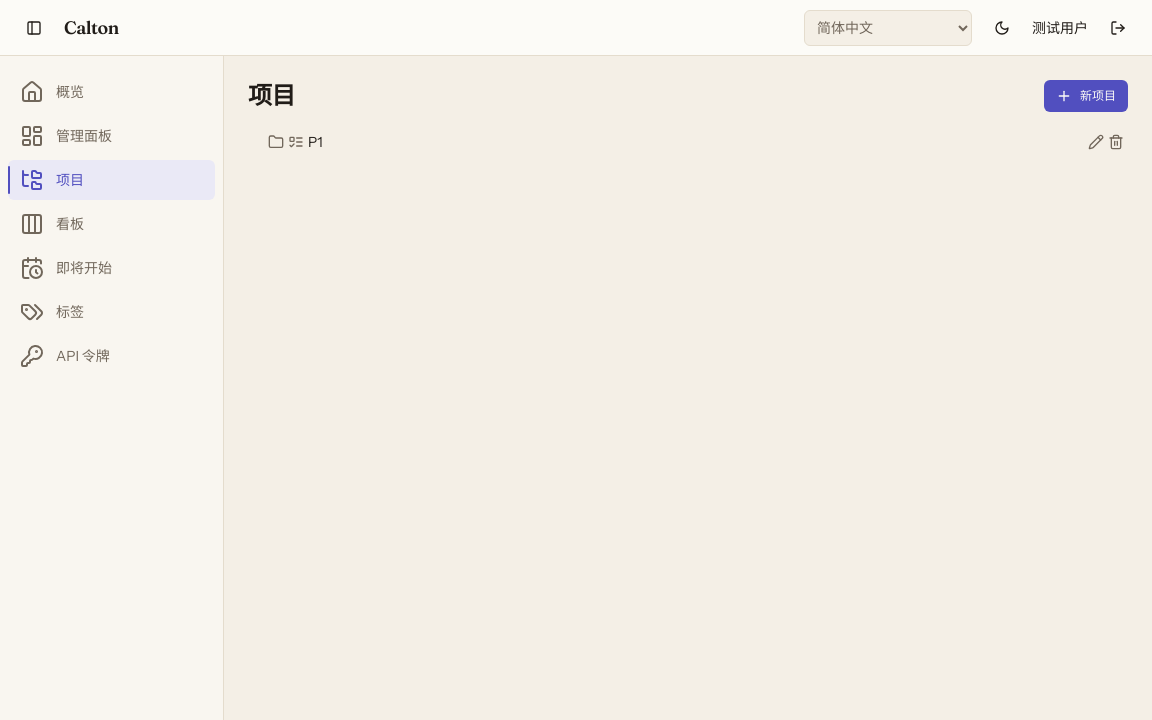
Test: 项目页 · 展开任务/子任务 › 点开任务后懒加载出该项目的任务，父任务下嵌套子任务
The image size is (1152, 720).
Expected: the list "P1" is shown, [248,128,1128,156]
Click the button with test id "project-tasks-toggle-1" at [296, 142], box [288,134,304,150]
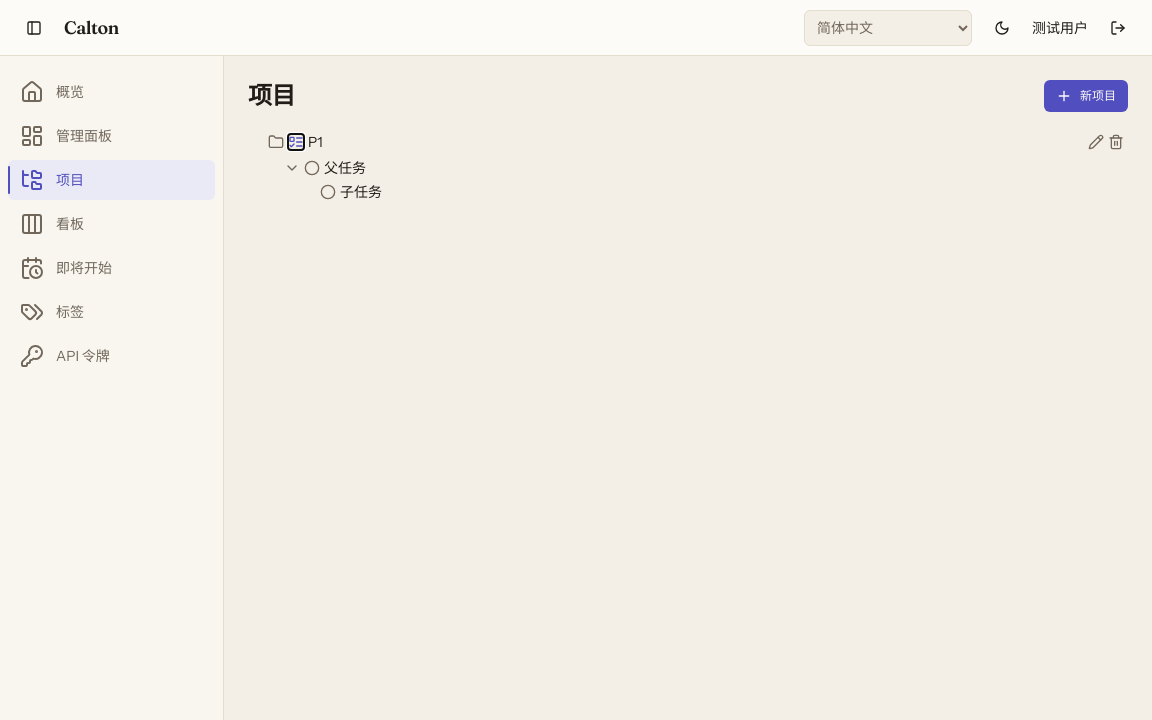
Now the link with test id "project-task-10" reads "父任务", box [324,158,366,178]
Now the link with test id "project-task-11" reads "子任务", box [340,182,382,202]
// 折叠子任务后从 DOM 消失
Click the button with test id "task-toggle-10" at [292, 168], box [284,160,300,176]
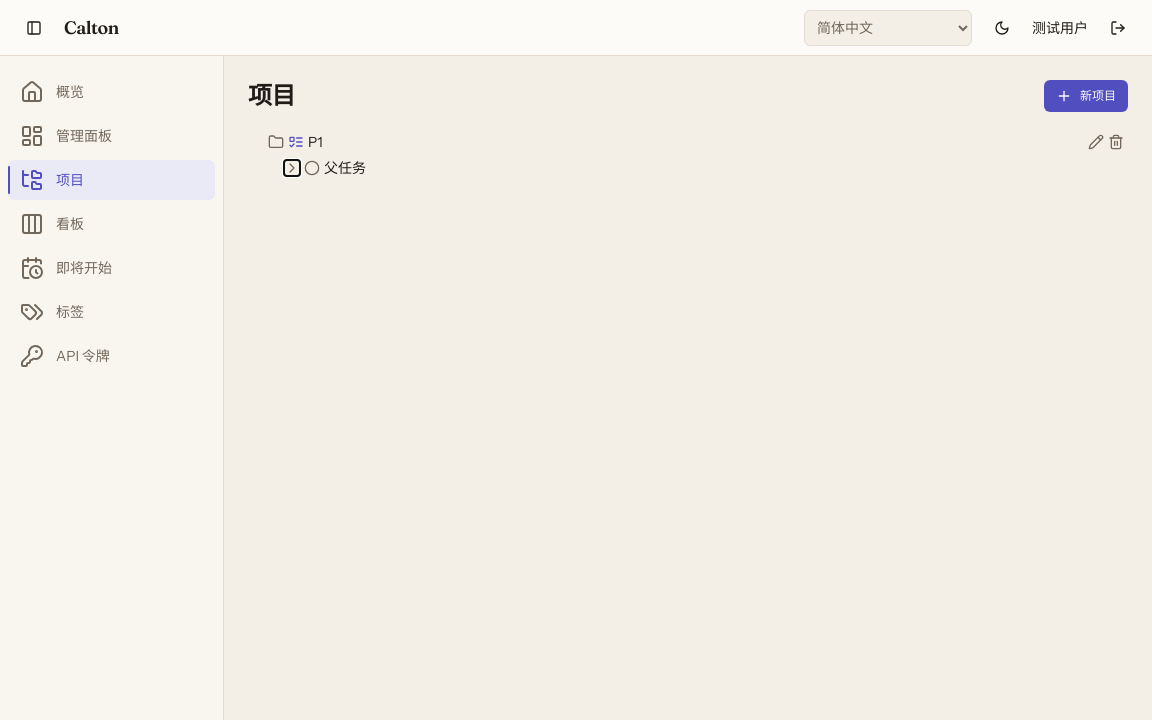
Now the link with test id "project-task-11" is gone
